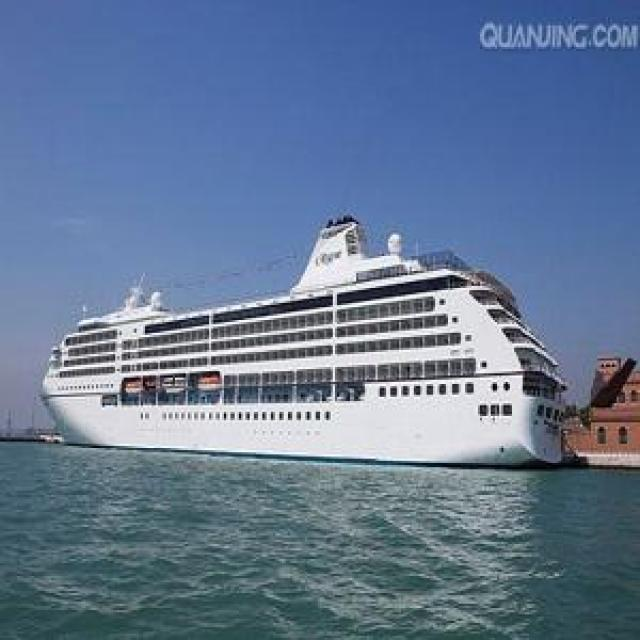passenger ship: (41, 241, 569, 469)
